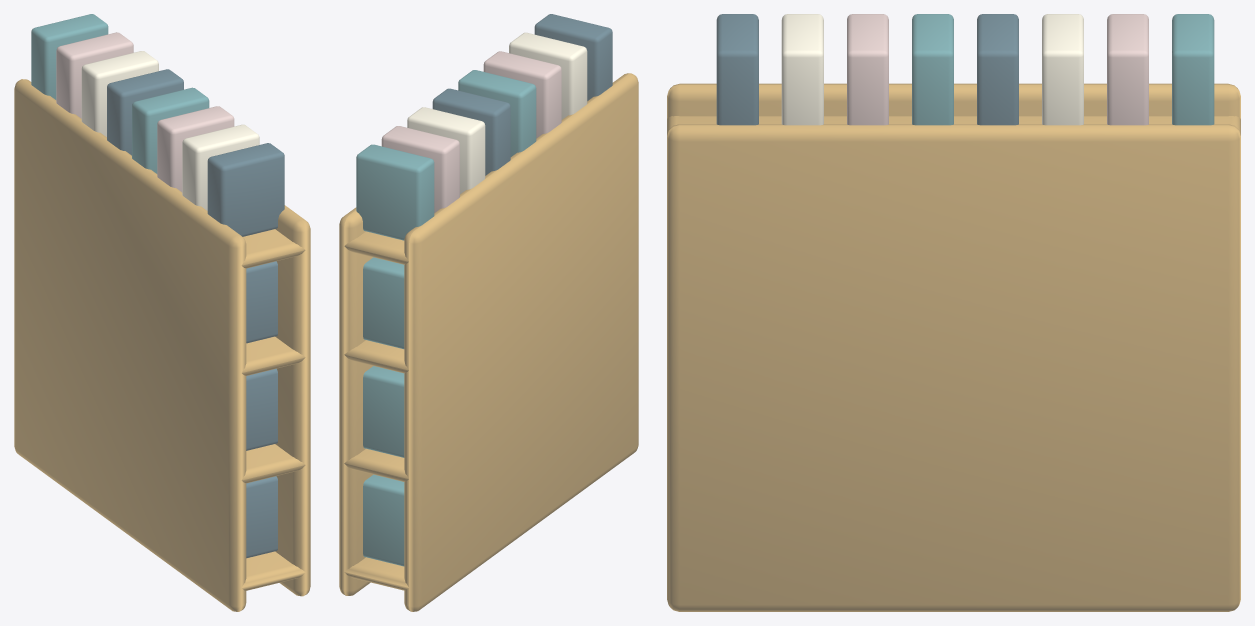
The model's file is sky_bookshelf.glb.
3 views of the same model, side by side, from view 1: azimuth 30°, elevation 25°; view 2: azimuth 150°, elevation 25°; view 3: azimuth 270°, elevation 25° (orthographic). The views are drawn at different scales.
Parts seen in each view (by area): view 1: sky_bookshelf_surface; view 2: sky_bookshelf_surface; view 3: sky_bookshelf_surface.
Boxes of the visible parts, x1,y1,x2,y2 form: sky_bookshelf_surface: (14,14,310,611); sky_bookshelf_surface: (339,14,638,611); sky_bookshelf_surface: (667,14,1240,611).
Size of the model in its own units: 0.63 by 3.22 by 3.
